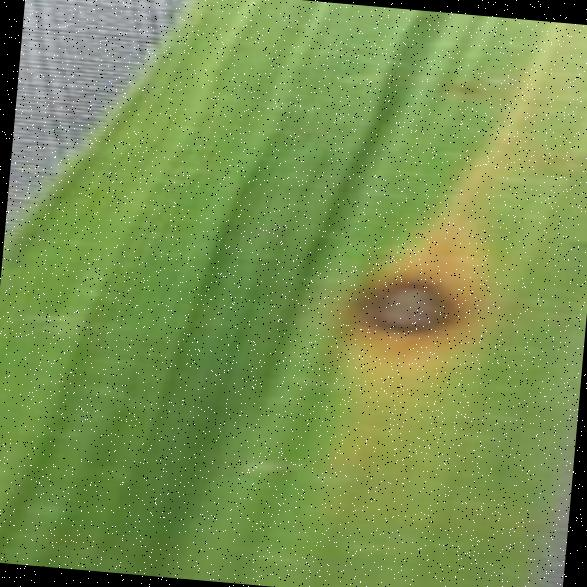Brown_Spot: (312, 218, 503, 395), (430, 62, 496, 110)
